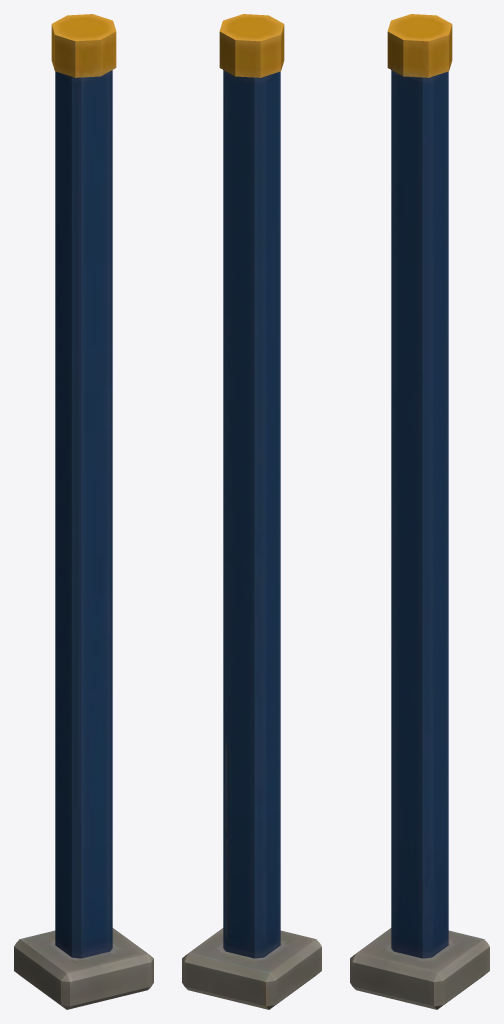
The model's file is site-mast.glb.
3 renders of one model, left to right at view 1: azimuth 30°, elevation 25°; view 2: azimuth 150°, elevation 25°; view 3: azimuth 330°, elevation 25°, orthographic.
Parts seen in each view (by area): view 1: site-mast; view 2: site-mast; view 3: site-mast.
Boxes of the visible parts, left/top/right/bottom form: site-mast: left=14, top=14, right=153, bottom=1009; site-mast: left=182, top=14, right=321, bottom=1009; site-mast: left=350, top=14, right=489, bottom=1009.
Size of the model in its own units: 0.16 by 1.57 by 0.16.
Materials: 1 (1 with a texture image).
